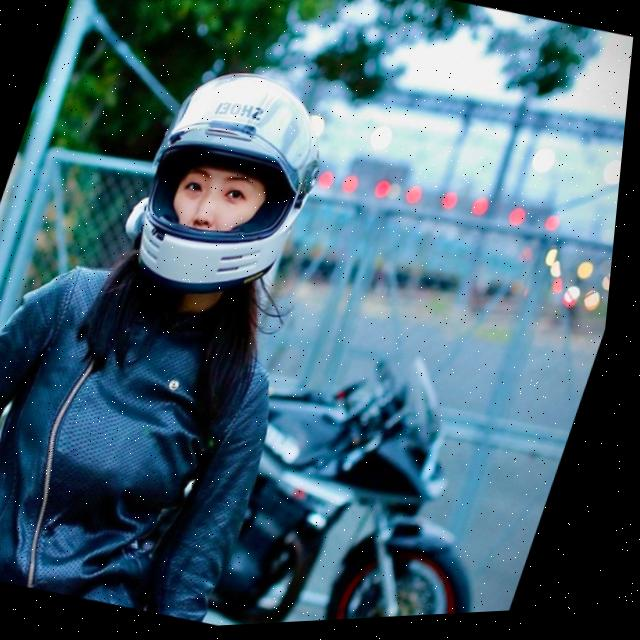helmet: (103, 49, 358, 325)
